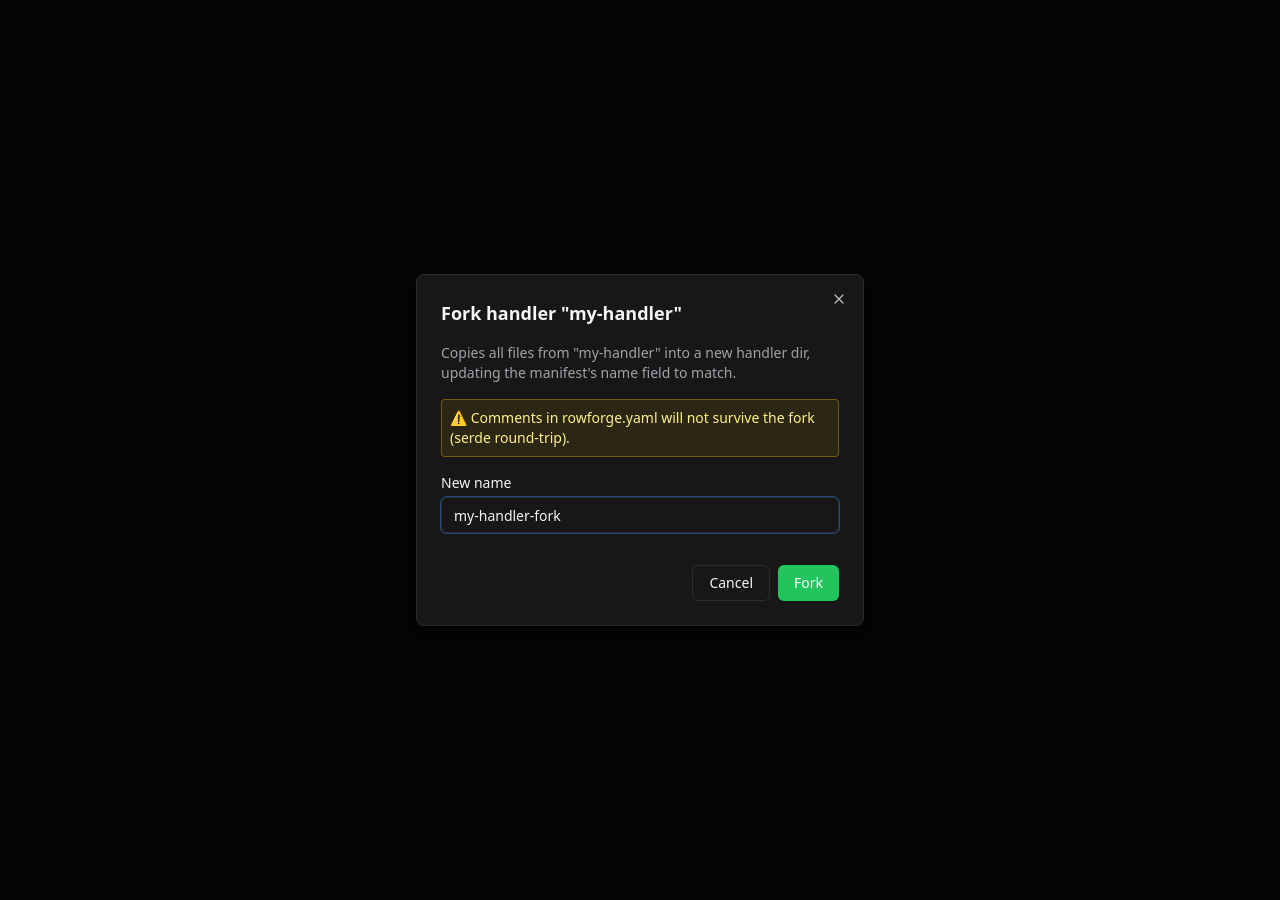
it: ForkHandlerDialog › disables the Fork button when name is invalid
The width and height of the screenshot is (1280, 900).
Replace the text in the field labelled "New name" with "Bad-Name": (640, 515) [441, 497, 839, 533]
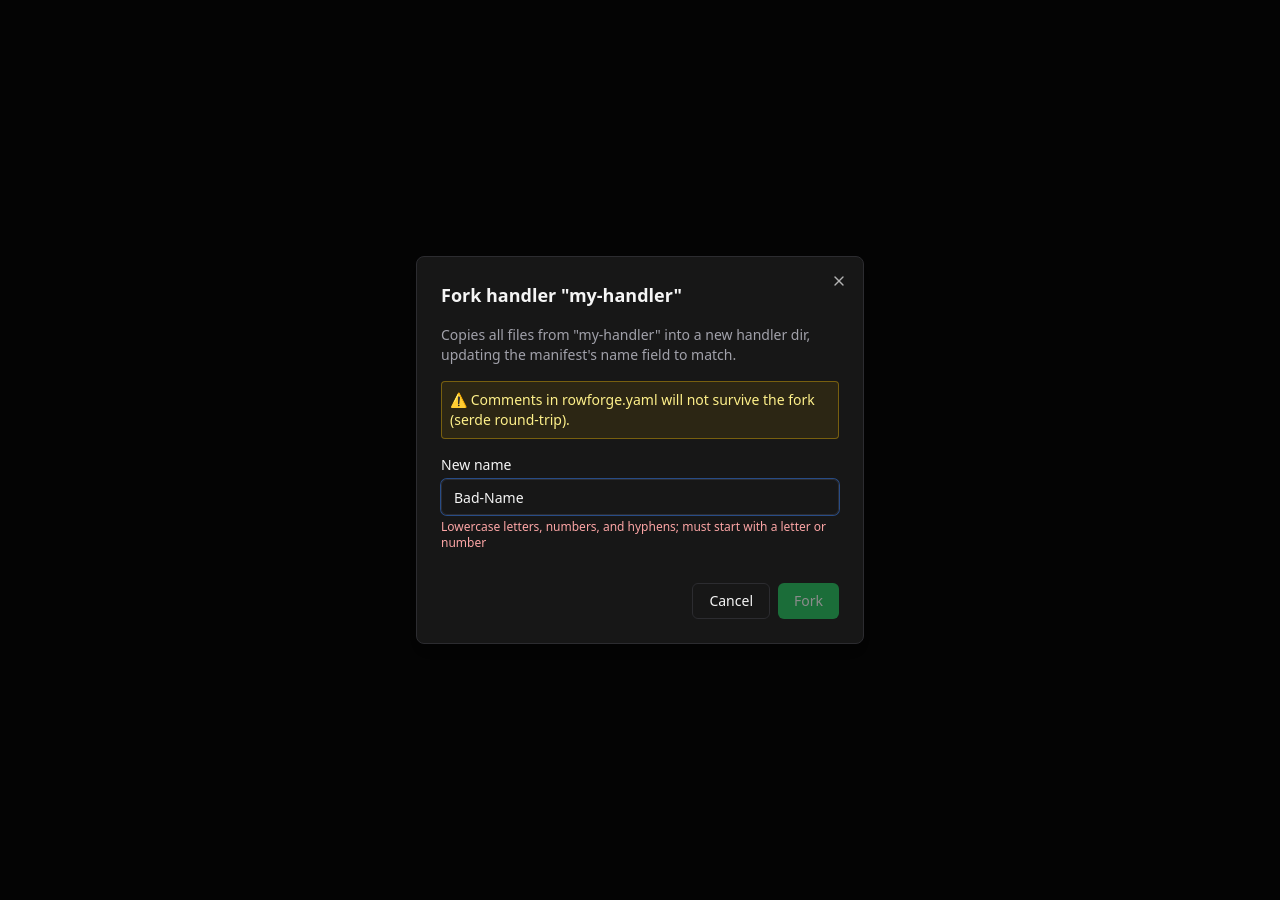
Expected: the button "Fork" is disabled, [778, 583, 839, 619]
Expected: the text "Lowercase letters, numbers, and hyphens" is shown, [441, 518, 826, 551]
